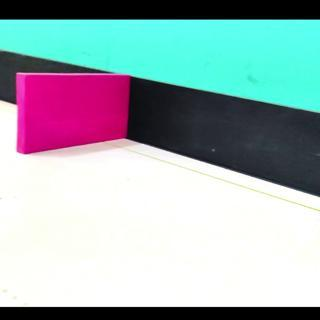xparking: (22, 76, 125, 153)
